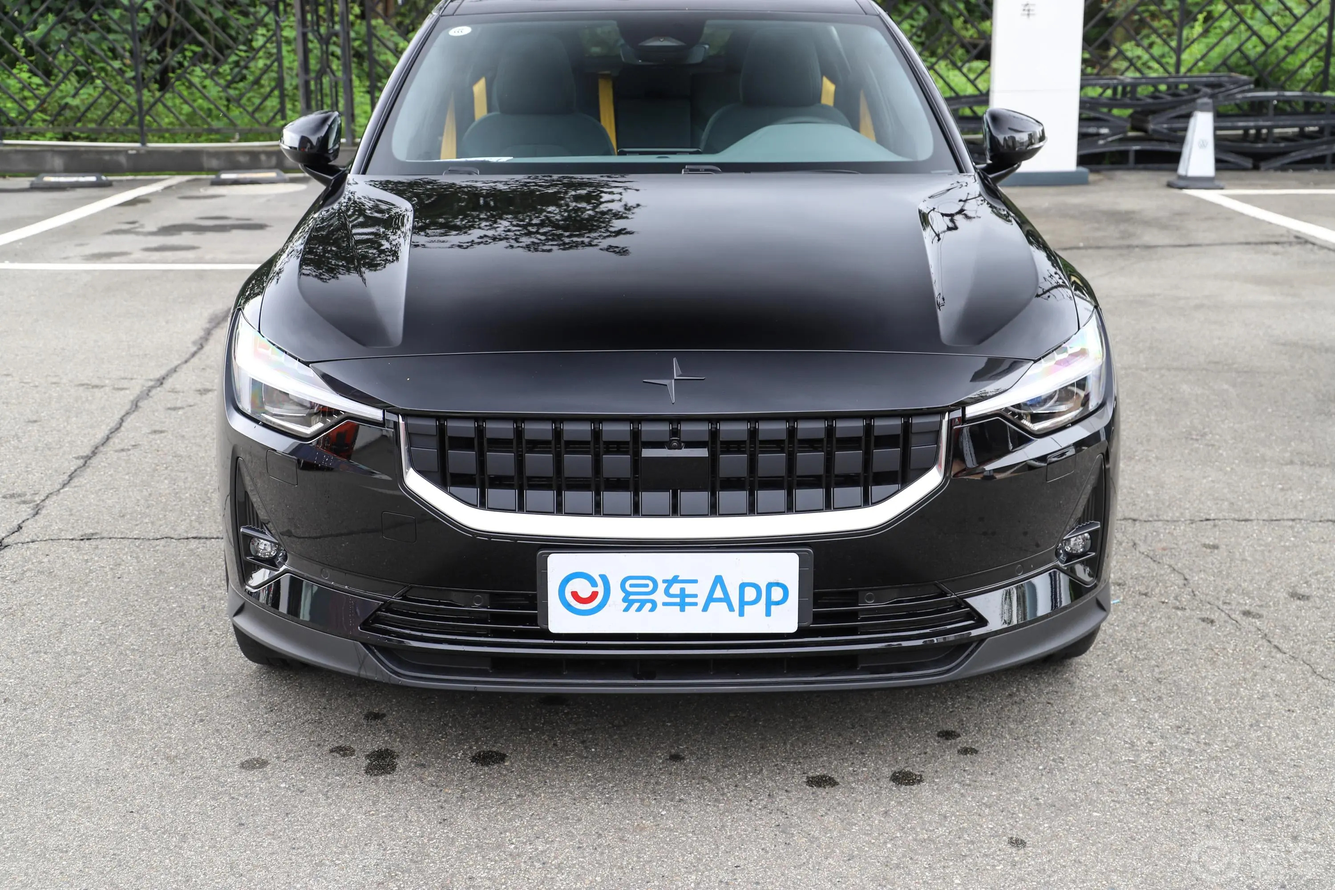Polestar: (643, 357, 705, 403)
